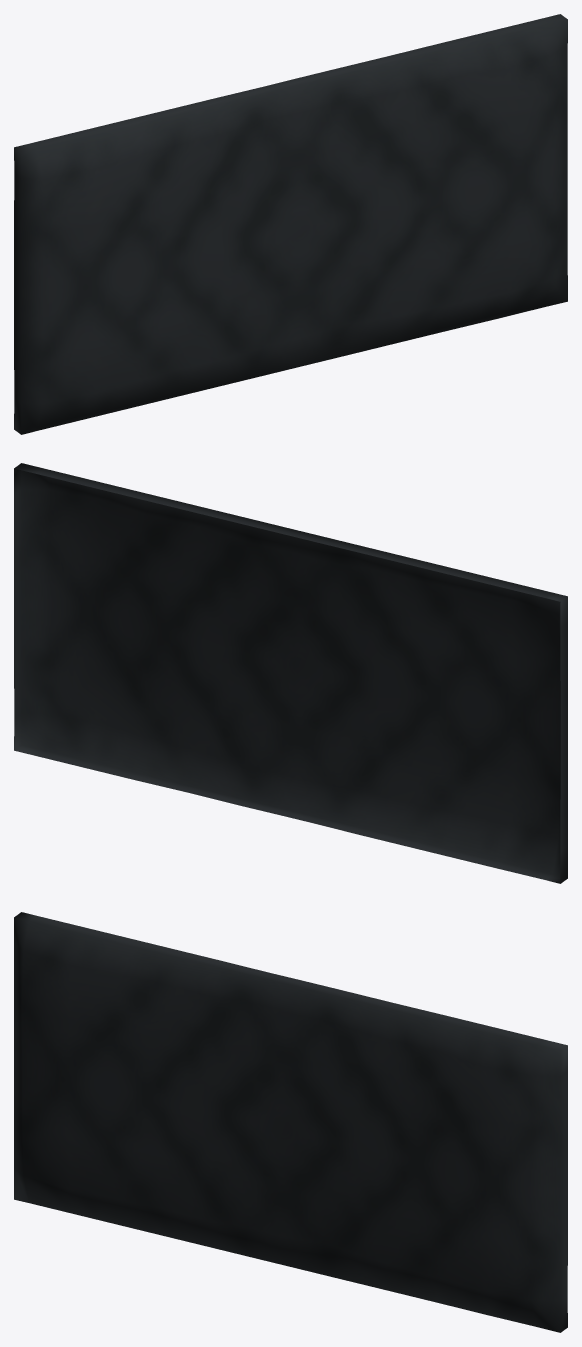
File: Interior_2_scifi_A_BS.fbx
3 views of the same model, one above another, from view 1: azimuth 30°, elevation 25°; view 2: azimuth 150°, elevation 25°; view 3: azimuth 330°, elevation 25° (orthographic).
Parts seen in each view (by area): view 1: Interior_2_scifi_A_BS; view 2: Interior_2_scifi_A_BS; view 3: Interior_2_scifi_A_BS.
Part boxes in pixels (x1,y1,x2,y2): Interior_2_scifi_A_BS: (14,14,567,434); Interior_2_scifi_A_BS: (14,463,567,883); Interior_2_scifi_A_BS: (14,912,567,1332).
Bounding box in the file's own units: 398 × 196 × 22.4.
1 material, 1 textured.
